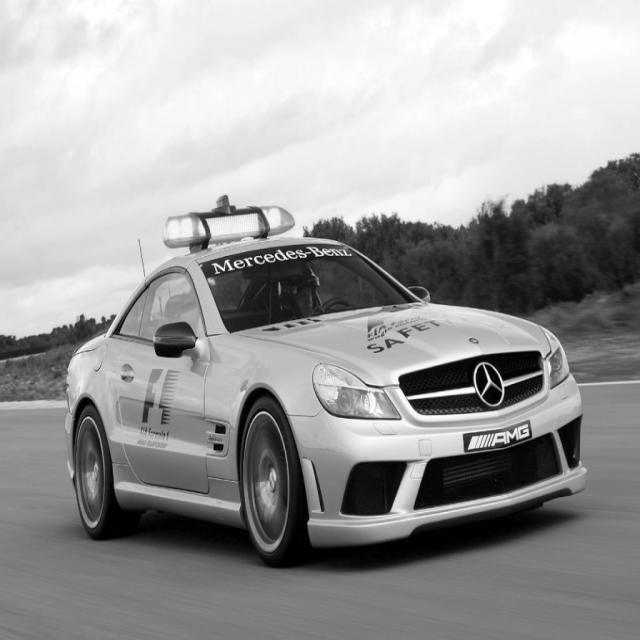car: (63, 194, 588, 567)
